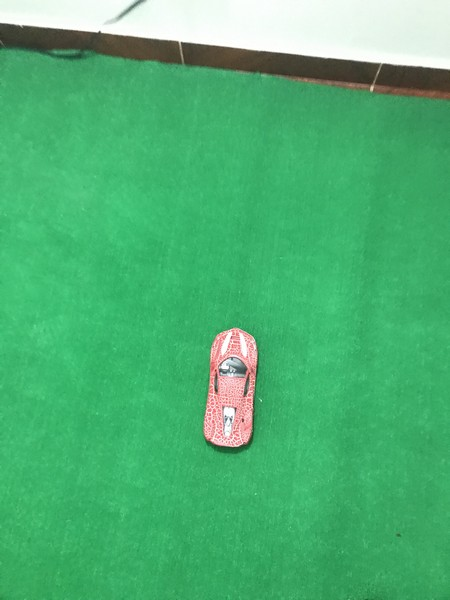RC: (201, 326, 259, 451)
